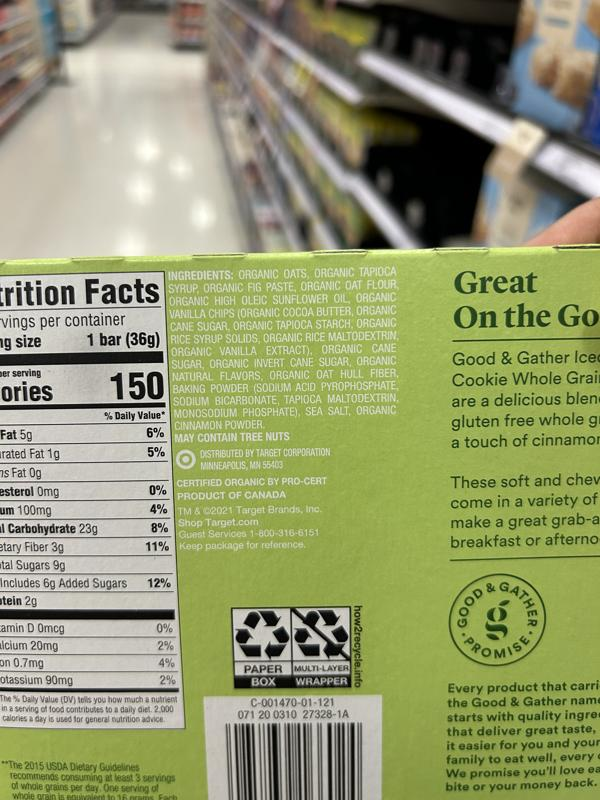ingredients: (165, 265, 398, 431)
